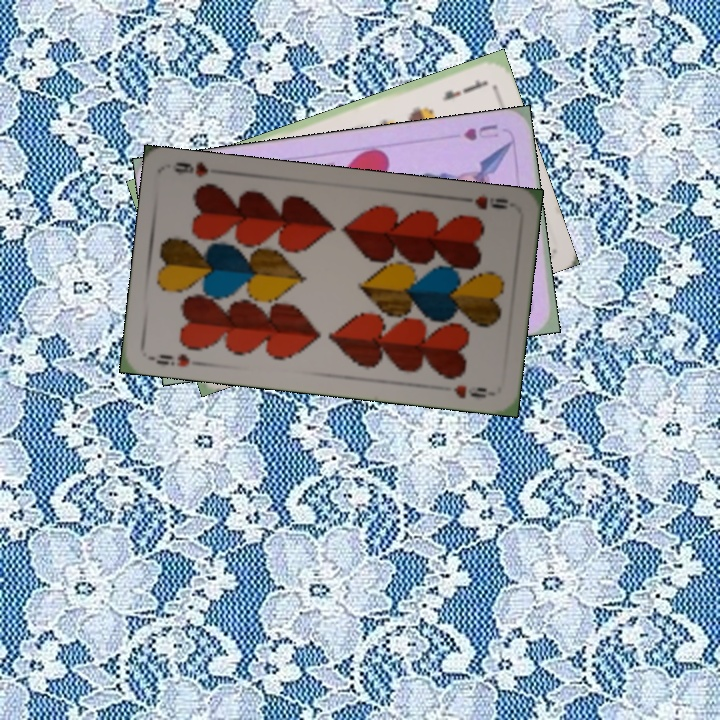E7: (438, 76, 488, 104)
H9: (456, 190, 510, 212), (153, 349, 192, 370)
HU: (459, 120, 501, 144)
